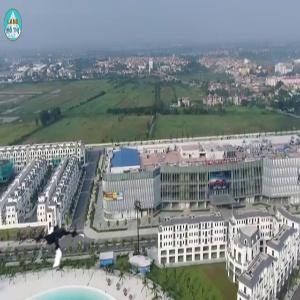drone: (24, 215, 86, 277)
